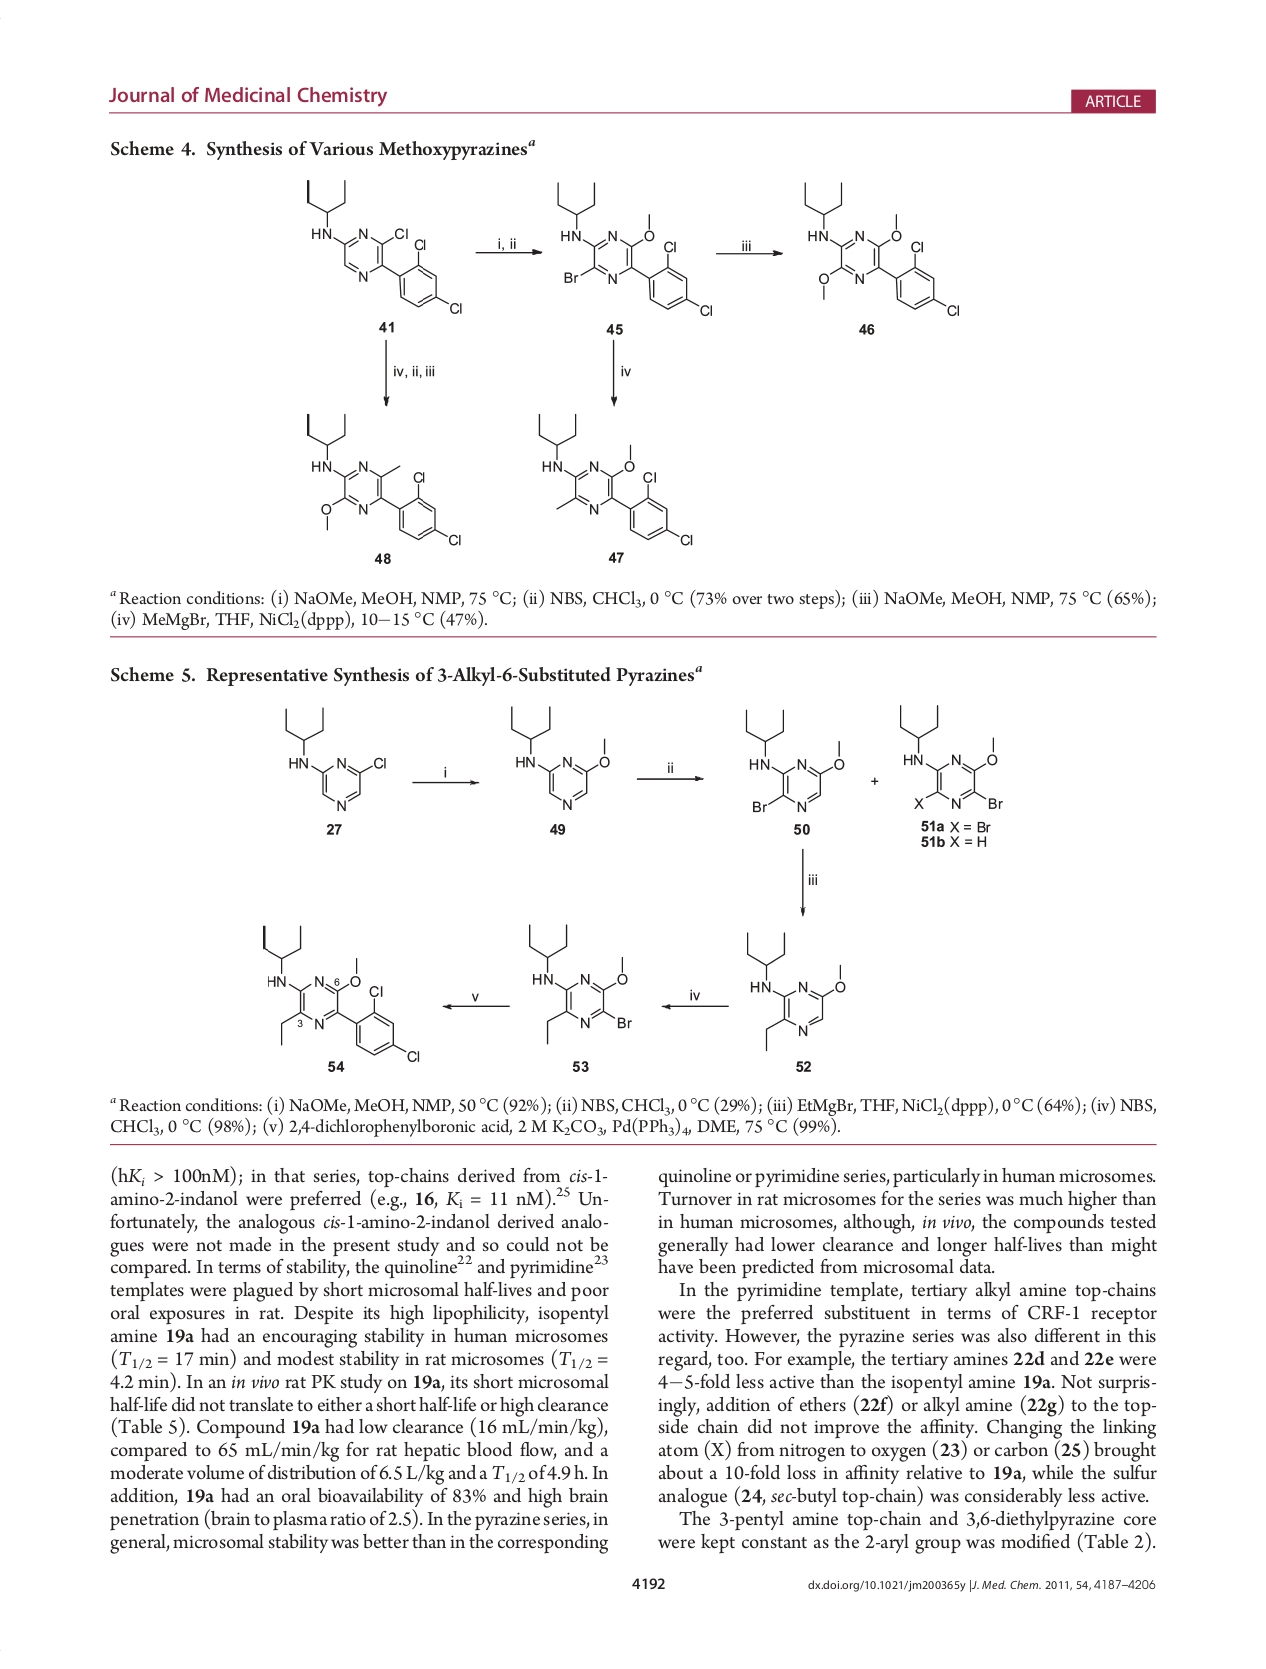exist_molecular: (551, 170, 714, 321), (255, 923, 422, 1064), (299, 176, 464, 317), (303, 408, 465, 549), (802, 176, 961, 318), (532, 412, 696, 551), (523, 918, 638, 1047), (743, 927, 848, 1055), (501, 697, 612, 813), (278, 702, 390, 813), (895, 700, 1005, 811), (739, 707, 848, 818)
